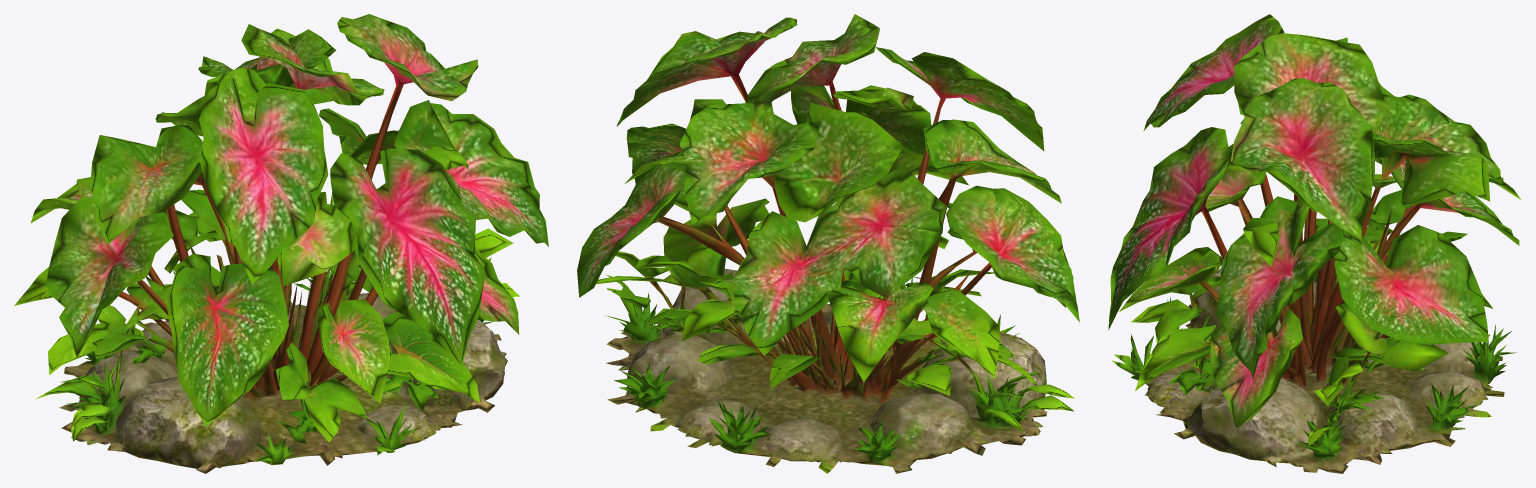
File: semak-3.glb
3 views of the same model, side by side, from view 1: azimuth 30°, elevation 25°; view 2: azimuth 150°, elevation 25°; view 3: azimuth 270°, elevation 25° (orthographic). The views are drawn at different scales.
Parts seen in each view (by area): view 1: pohon; view 2: pohon; view 3: pohon.
Part boxes in pixels (x1=…): pohon: x1=14, y1=14, x2=548, y2=473; pohon: x1=577, y1=14, x2=1079, y2=473; pohon: x1=1108, y1=14, x2=1520, y2=473.
Bounding box in the file's own units: 0.9796 × 0.7 × 0.795.
Materials: 1 (1 with a texture image).
